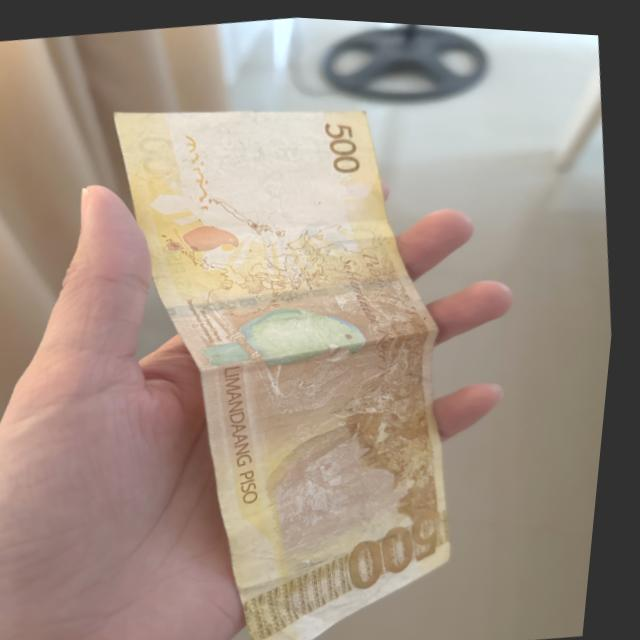see_through_mark: (173, 124, 230, 221)
watermark: (181, 104, 348, 220)
